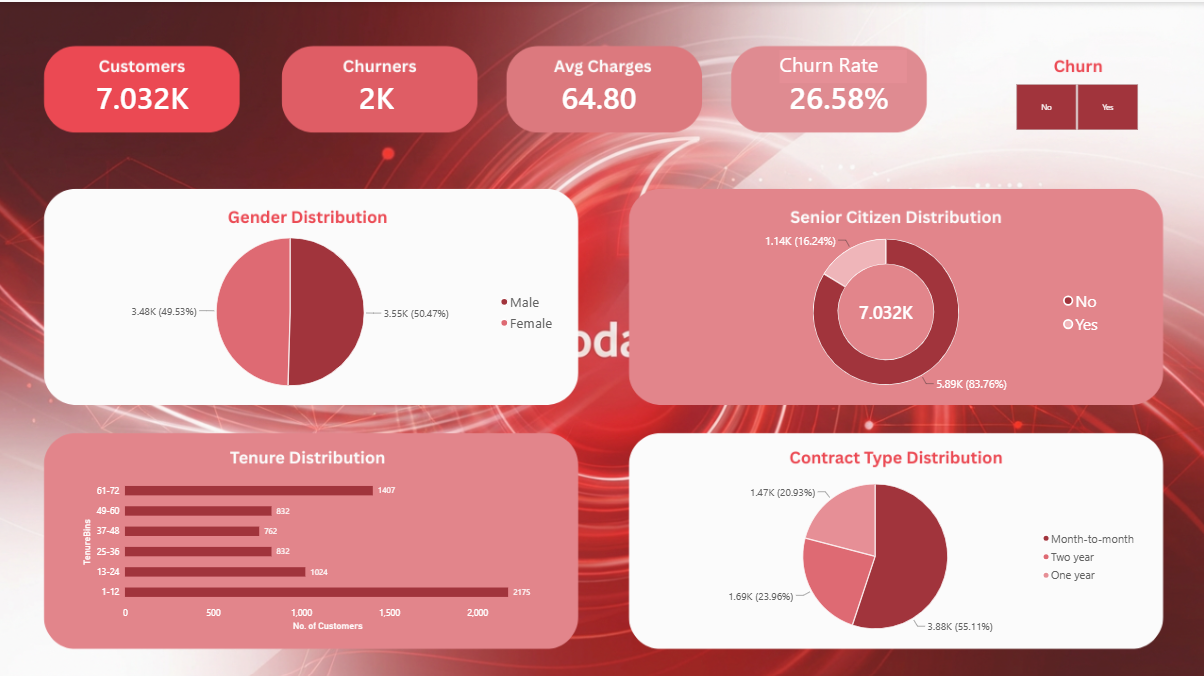

This screenshot's page, from the dashboard's own definition file:
{"tool":"powerbi","page":{"name":"Customer Churn Overview","canvas":[1920,1080],"ordinal":1},"visuals":[{"type":"cardVisual","fields":{"Data":["CountNonNull(customerchurn.customerID)"]},"box":[140.8,112.1,193.3,76.3],"z":0},{"type":"cardVisual","fields":{"Data":["customerchurn.Total Churners"]},"box":[558.3,112.1,193.3,76.3],"z":1000},{"type":"cardVisual","fields":{"Data":["Avg(customerchurn.MonthlyCharges)"]},"box":[880.4,112.1,193.3,76.3],"z":2000},{"type":"cardVisual","fields":{"Data":["customerchurn.Churn Rate"]},"box":[1243.1,112.1,193.3,76.3],"z":3000},{"type":"pieChart","fields":{"Category":["customerchurn.gender"],"Y":["CountNonNull(customerchurn.gender)"]},"box":[116.9,326.9,789.7,334],"z":4000},{"type":"barChart","fields":{"Category":["customerchurn.TenureBins"],"Y":["CountNonNull(customerchurn.Churn)"]},"box":[116.9,734.9,763.5,281.5],"z":5000},{"type":"donutChart","fields":{"Category":["customerchurn.SeniorCitizen"],"Y":["CountNonNull(customerchurn.SeniorCitizen)"]},"box":[1116.6,326.9,658.5,334],"z":6000},{"type":"pieChart","fields":{"Category":["customerchurn.Contract"],"Y":["CountNonNull(customerchurn.Contract)"]},"box":[1114.2,715.8,718.2,334],"z":7000},{"type":"slicer","fields":{"Values":["customerchurn.Churn"]},"box":[1598.6,128.8,233.8,76.3],"z":8000},{"type":"textbox","box":[1243.1,76.3,202.8,52.5],"z":9000}]}

Visuals, with their boxes in screenshot pixels (x1, y1, x2, y2), scaled from the page's 1920x1080 canvas onto the 1204x676 screenshot:
cardVisual - CountNonNull(customerchurn.customerID): <region>88, 70, 210, 118</region>
cardVisual - customerchurn.Total Churners: <region>350, 70, 471, 118</region>
cardVisual - Avg(customerchurn.MonthlyCharges): <region>552, 70, 673, 118</region>
cardVisual - customerchurn.Churn Rate: <region>780, 70, 901, 118</region>
pieChart - customerchurn.gender x CountNonNull(customerchurn.gender): <region>73, 205, 569, 414</region>
barChart - customerchurn.TenureBins x CountNonNull(customerchurn.Churn): <region>73, 460, 552, 636</region>
donutChart - customerchurn.SeniorCitizen x CountNonNull(customerchurn.SeniorCitizen): <region>700, 205, 1113, 414</region>
pieChart - customerchurn.Contract x CountNonNull(customerchurn.Contract): <region>699, 448, 1149, 657</region>
slicer - customerchurn.Churn: <region>1002, 81, 1149, 128</region>
textbox: <region>780, 48, 907, 81</region>
